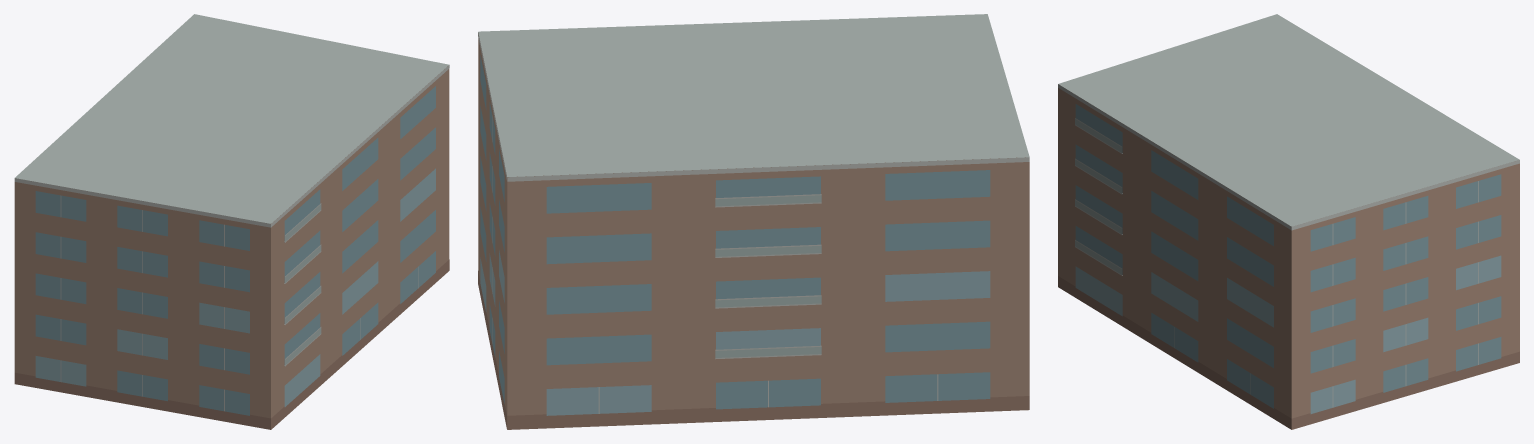
The model's file is survey-upis-32775787.glb.
3 renders of one model, left to right at view 1: azimuth 30°, elevation 25°; view 2: azimuth 150°, elevation 25°; view 3: azimuth 270°, elevation 25°, orthographic. The views are drawn at different scales.
Parts seen in each view (by area): view 1: survey-upis-32775787.tmp; view 2: survey-upis-32775787.tmp; view 3: survey-upis-32775787.tmp.
Boxes of the visible parts, x1,y1,x2,y2 form: survey-upis-32775787.tmp: (14, 14, 449, 429); survey-upis-32775787.tmp: (478, 14, 1029, 429); survey-upis-32775787.tmp: (1058, 14, 1519, 429).
Bounding box in the file's own units: 29.88 × 13.3 × 27.41.
